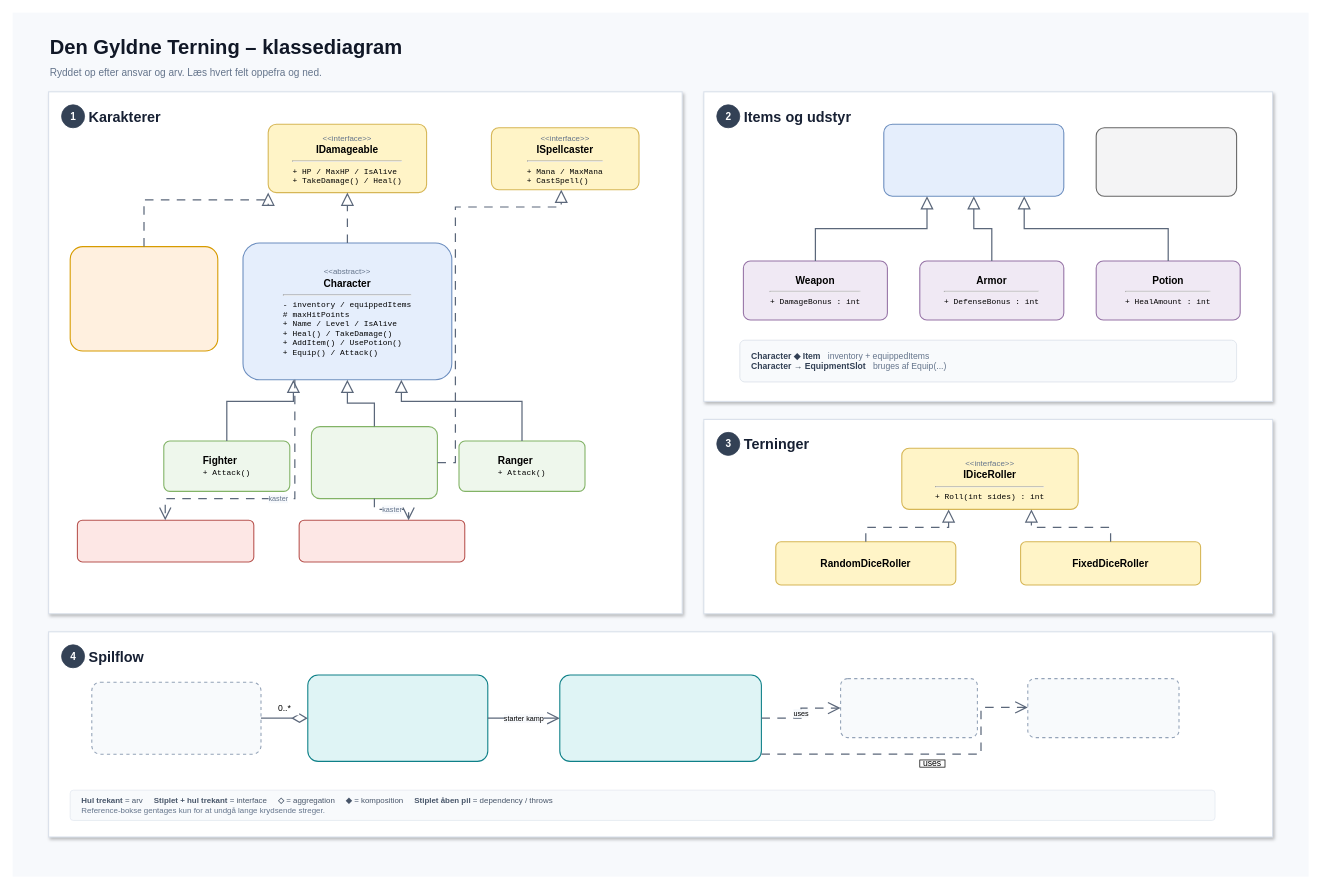
The diagram is 1320 pixels wide and 888 high, and some of its shapes have lost their labels. The centre of each missing label's shape, as x and y in pixels:
"<<abstract>> Item + Name : string + Describe() : string" goes at point 973,159.
"<<enumeration>> EquipmentSlot Weapon Armor" goes at point 1166,161.
"CharacterIsDefeatedException" goes at point 165,540.
"Encounter - statusEffects + PlayRound()" goes at point 660,718.
"InsufficientManaException" goes at point 381,540.
"Monster + Name / IsAlive + PoisonChancePercent + IsPoisonous + Attack()" goes at point 143,298.
"Party + Name + AddMember(Character) + IsDefeated" goes at point 397,718.
"reference Character 0..* medlemmer" goes at point 176,717.
"reference IDiceRoller bruges til slag" goes at point 1103,708.
"reference Monster bruges i kamp" goes at point 909,708.
"Sorcerer - currentMana + CastSpell() + Attack()" goes at point 374,462.
